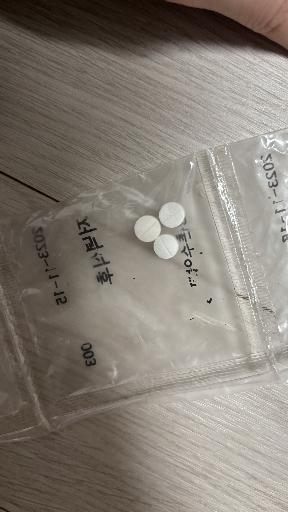Besti-on: (154, 234, 179, 259)
Gaster: (134, 215, 161, 242)
Solondo: (159, 202, 185, 228)
vinyl: (0, 128, 288, 442)
